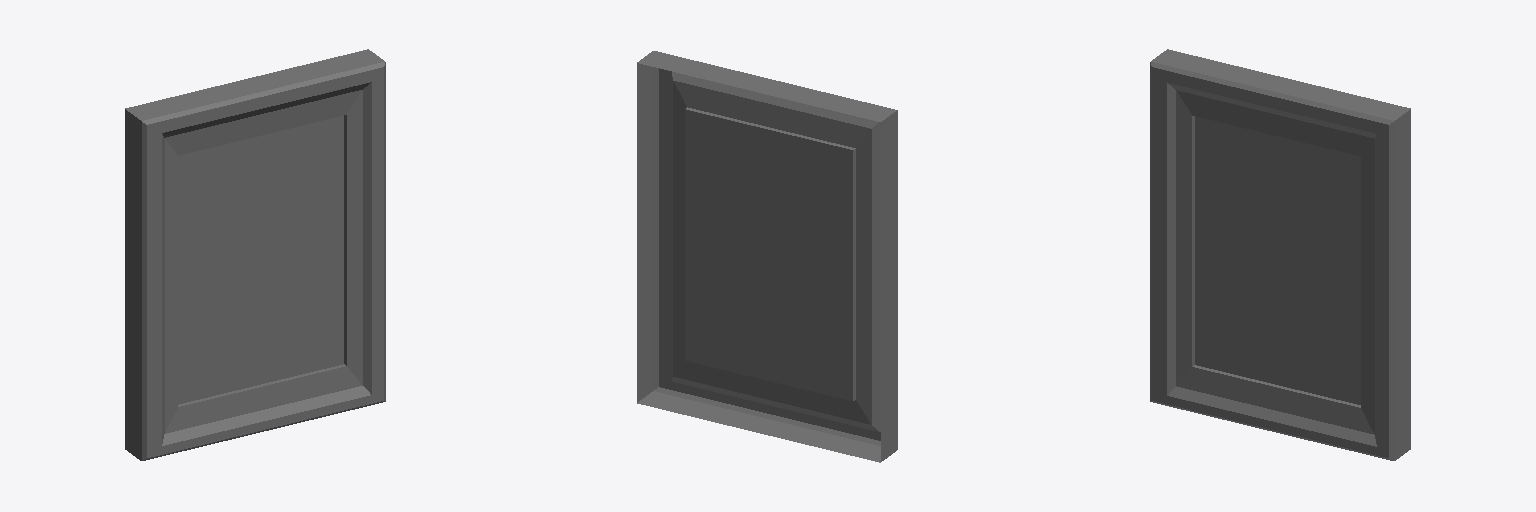
File: frameNS3.obj
3 renders of one model, left to right at view 1: azimuth 30°, elevation 25°; view 2: azimuth 150°, elevation 25°; view 3: azimuth 330°, elevation 25°, orthographic.
Visible parts, largest first — view 1: goldFrame; view 2: goldFrame; view 3: goldFrame.
Part boxes in pixels (x1,y1,x2,y2): goldFrame: (125,49,385,460); goldFrame: (637,51,897,462); goldFrame: (1150,49,1410,460).
Bounding box in the file's own units: 150 × 200 × 20.